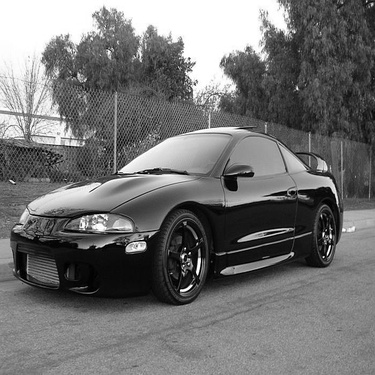car: (7, 117, 346, 309)
